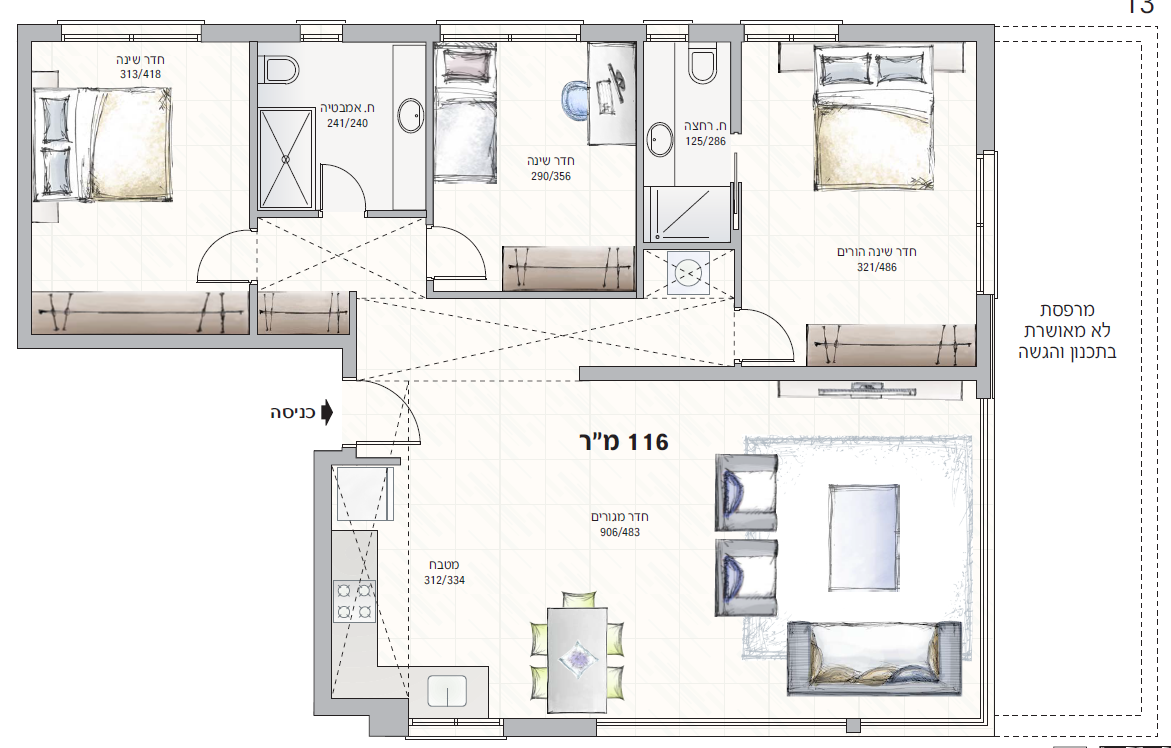door: (364, 375, 425, 447), (196, 229, 249, 289), (314, 151, 367, 211), (438, 224, 491, 284), (744, 307, 797, 367)
wall: (18, 334, 357, 350), (15, 23, 31, 350), (312, 451, 331, 716), (974, 23, 995, 152), (839, 23, 993, 40)
window: (975, 155, 998, 295), (61, 20, 202, 41), (439, 21, 580, 42), (407, 718, 506, 740), (744, 22, 840, 43), (301, 21, 344, 42), (647, 21, 690, 42)
